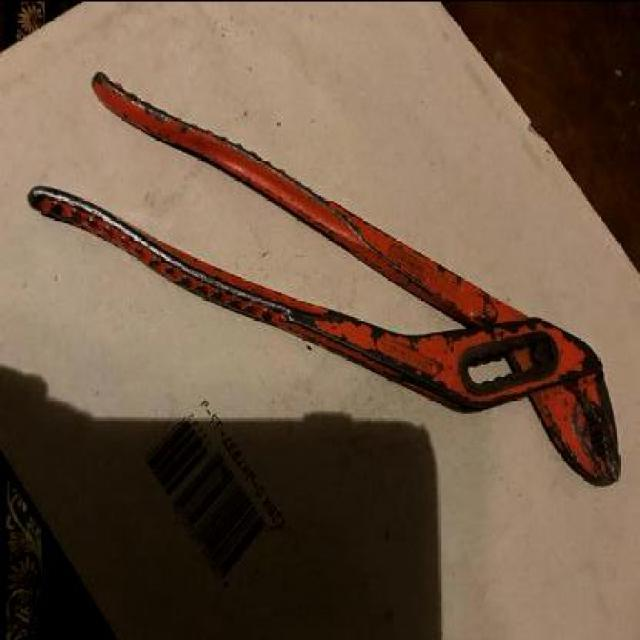pliers: (26, 70, 623, 484)
